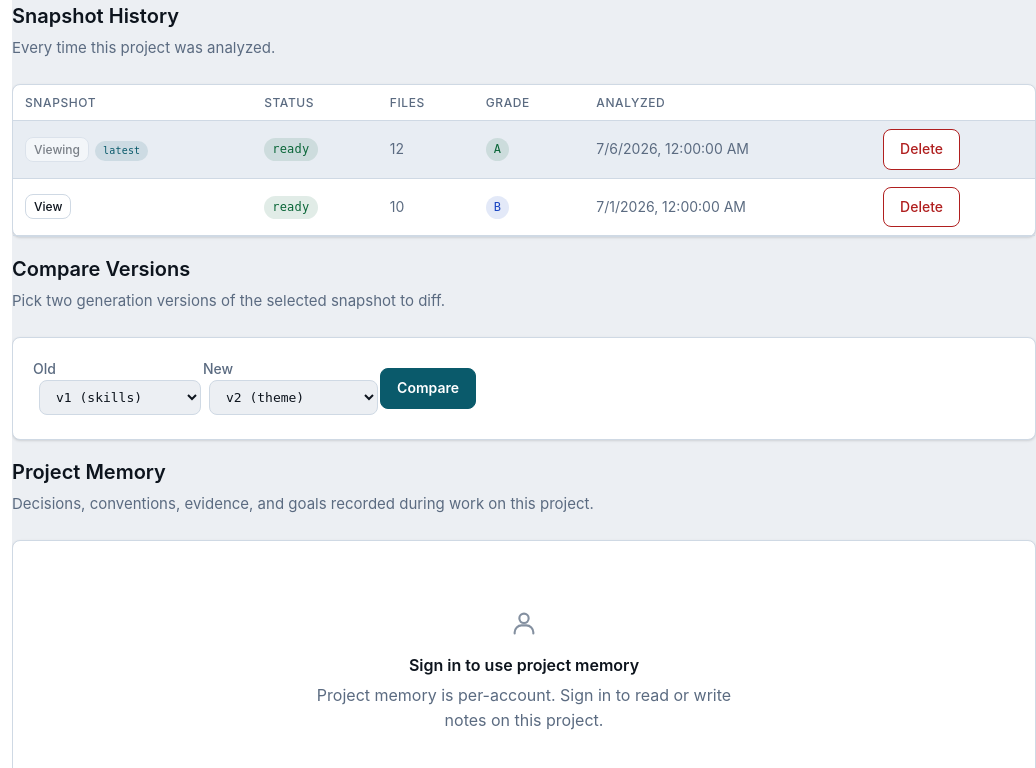
Test: VersionsTab — snapshot deletion › deleting a second snapshot while the first's delete is still in flight does not re-enable the first row's confirm button
The width and height of the screenshot is (1036, 768).
Click the button "Delete" in the row of "10".
click(922, 207)  # box x1=883 y1=187 x2=960 y2=227
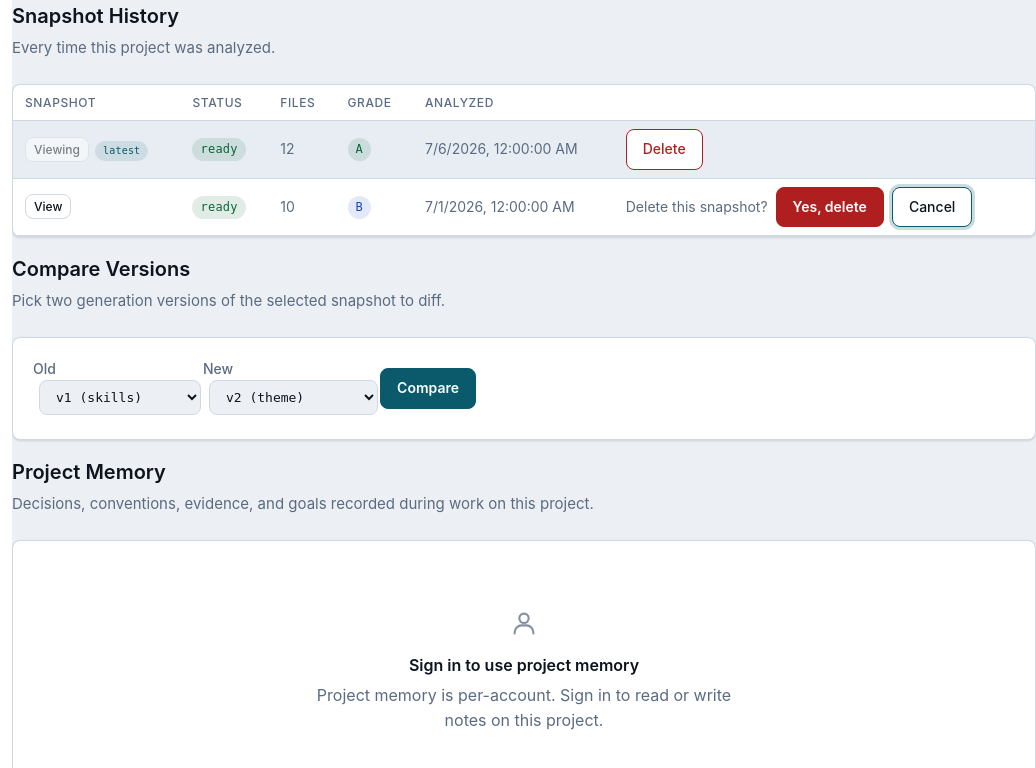
Click the button "Yes, delete".
click(830, 207)  # box x1=776 y1=187 x2=884 y2=227
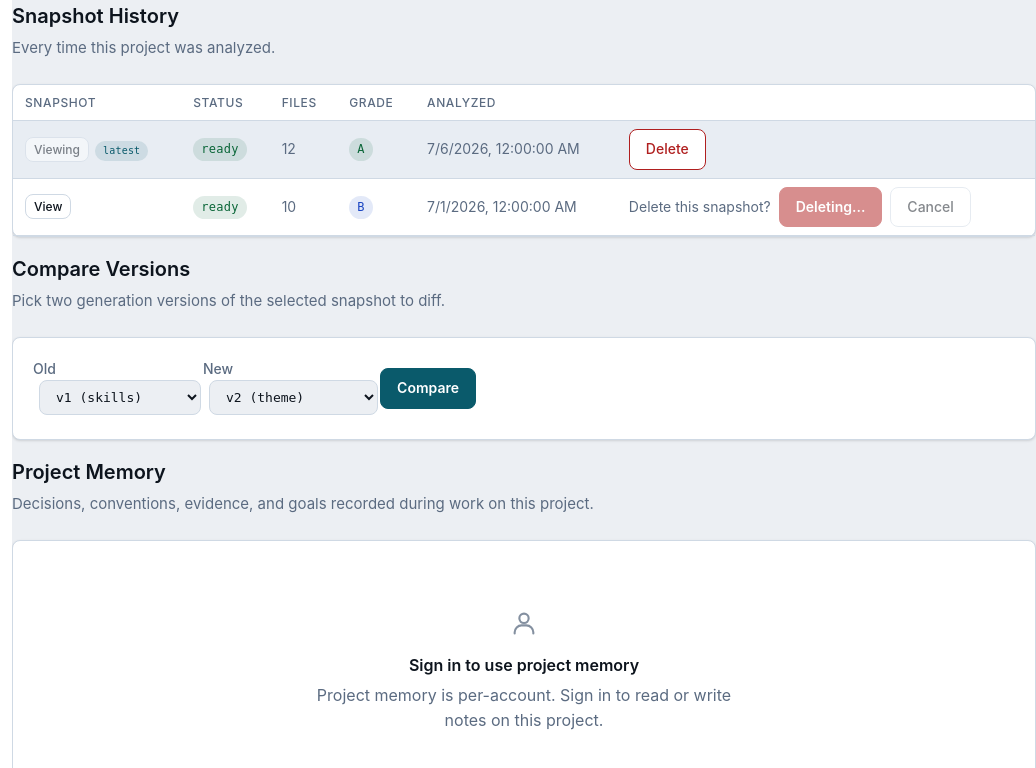
Click the button "Delete".
click(667, 149)  # box x1=629 y1=129 x2=706 y2=170
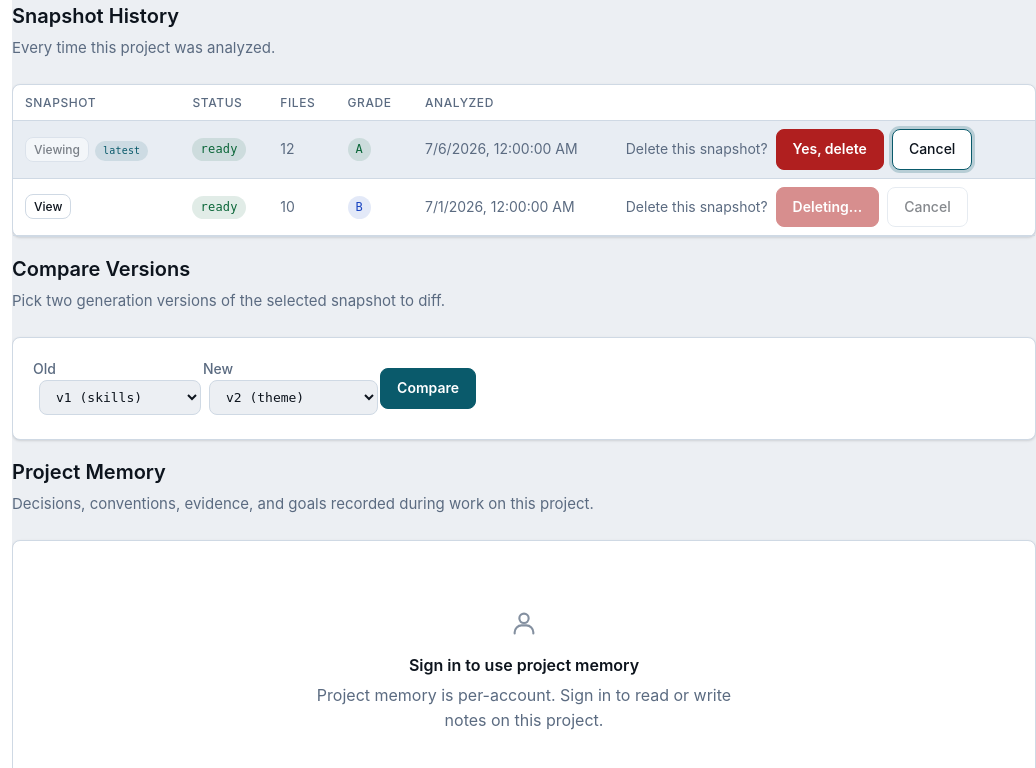
Click the button "Yes, delete".
click(830, 149)  # box x1=776 y1=129 x2=884 y2=170
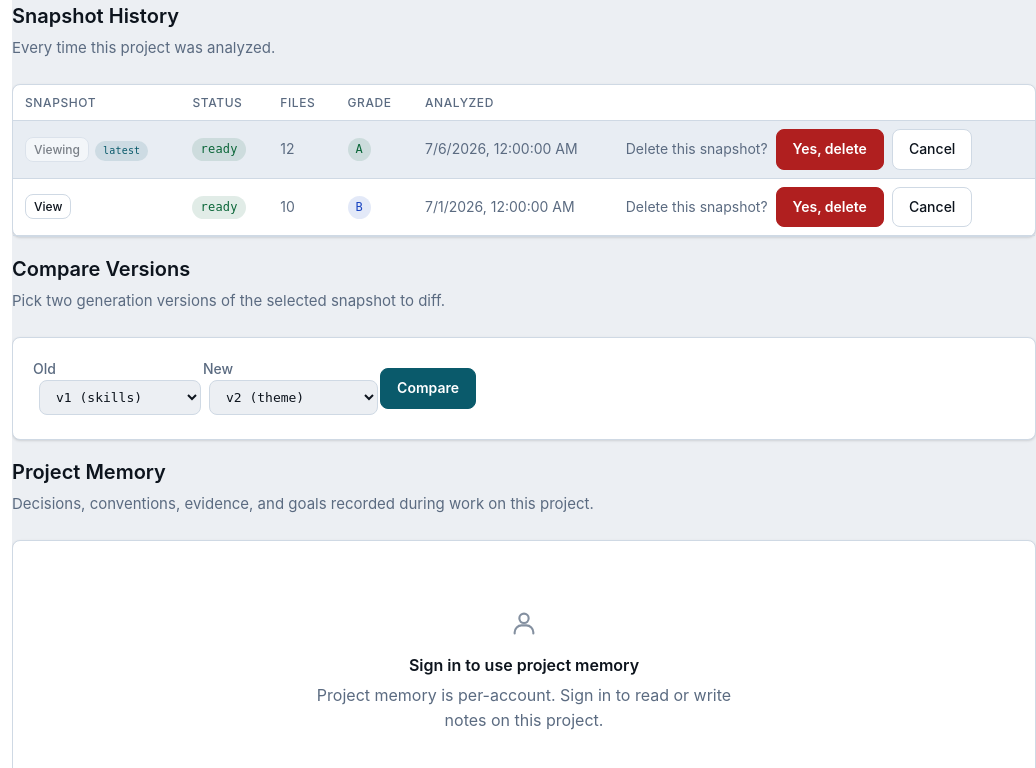
Now the button named "Deleting..." is shown, box x1=776 y1=187 x2=884 y2=227
Now the button "Deleting..." is gone
